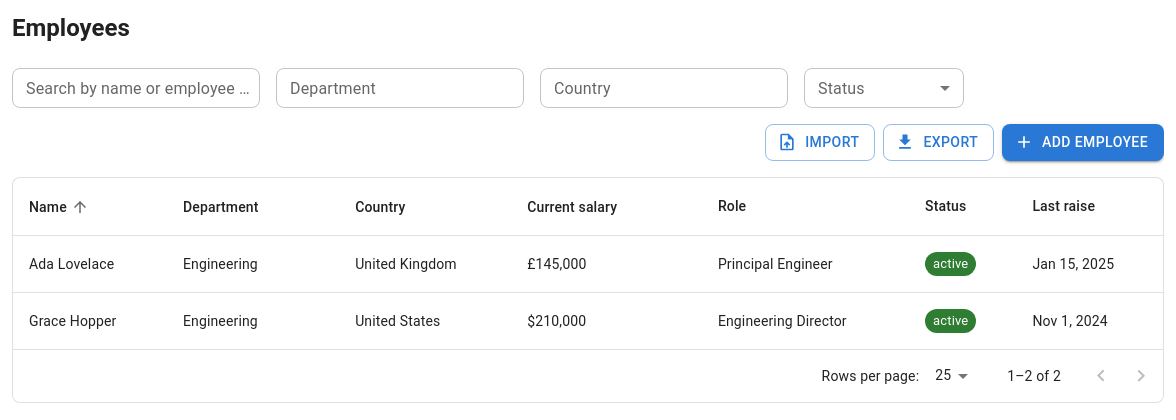
it: EmployeeListPage › shows an empty state when no employees match
Expected: the text "Ada Lovelace" is shown, [13,235,167,292]
Type "nonexistent employee" into the field labelled "Search by name or employee ID" at (136, 88), box [12,68,260,108]
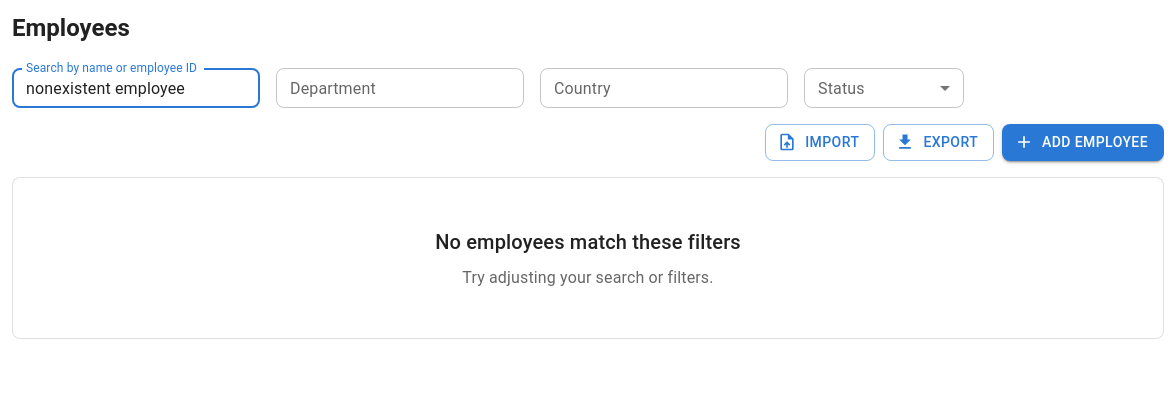
Expected: the heading "No employees match these filters" is shown, [435,230,741,254]
